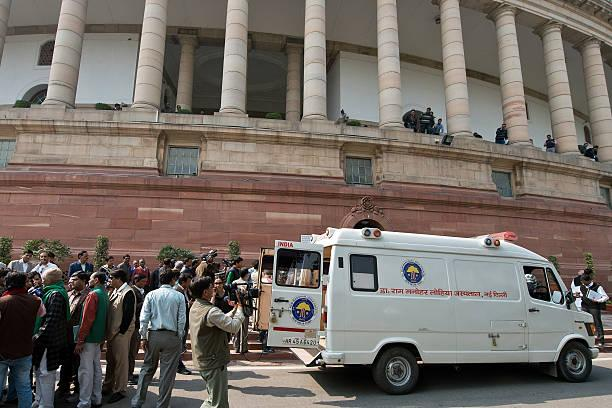ER: (261, 228, 595, 391)
